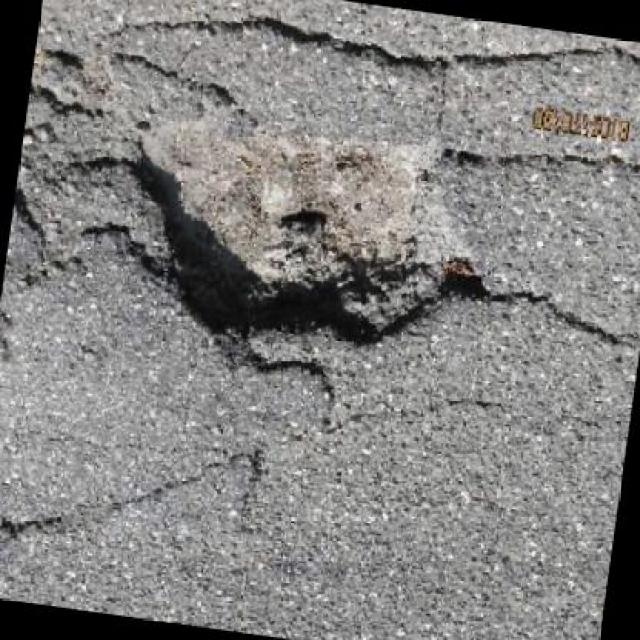pothole1: (100, 98, 509, 385)
